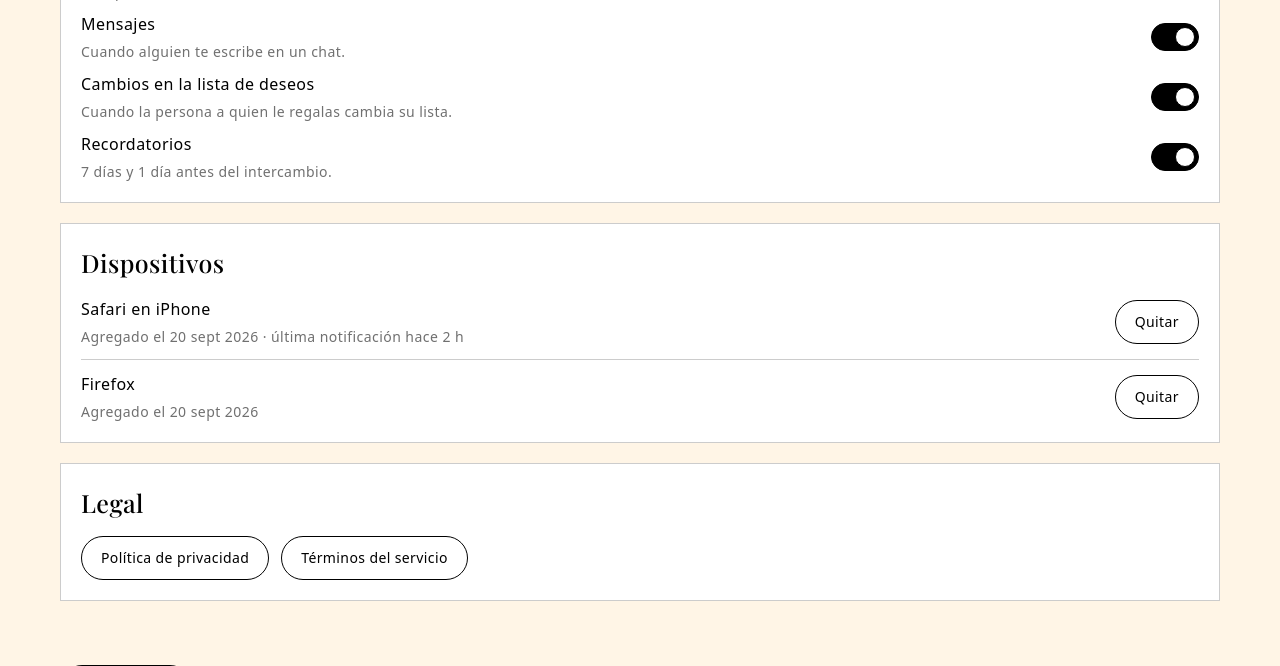
Test: Profile › Devices › Remove takes the device off the list
(page scrolled)
Click the button with aria-label "Quitar Safari en iPhone".
click(1157, 322)  # box top-left (1115, 300), bottom-right (1199, 344)
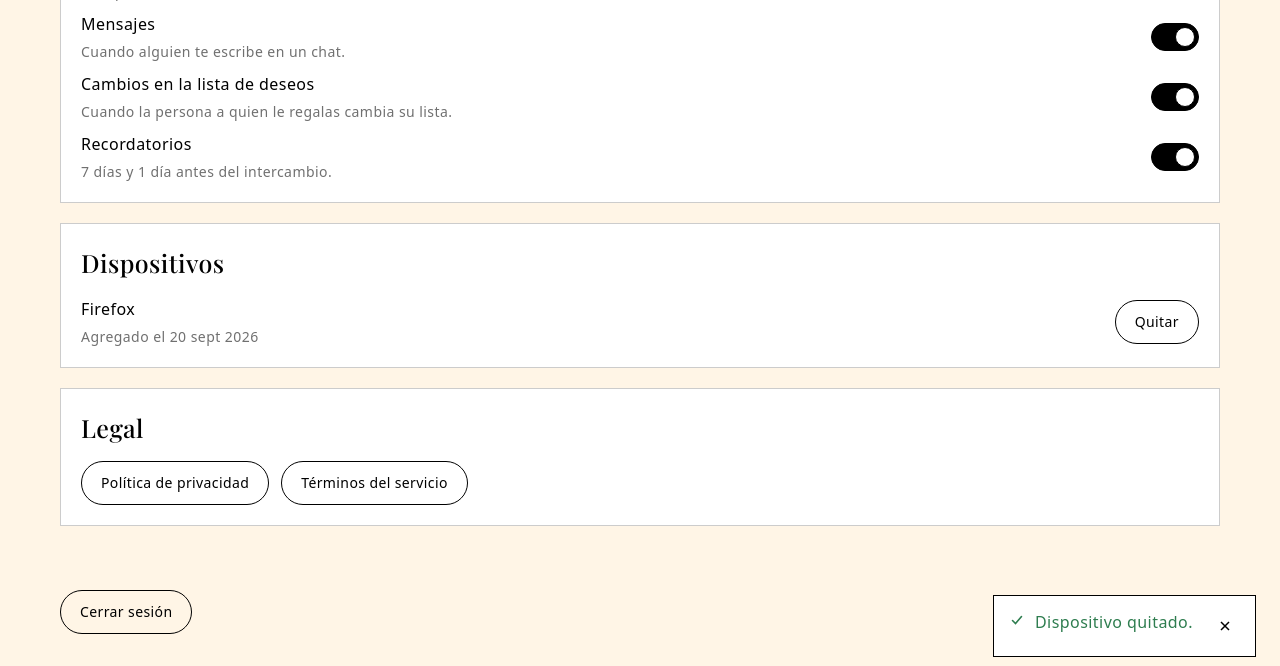
Check: the text "Dispositivo quitado." is shown, box top-left (1035, 610), bottom-right (1193, 634)
